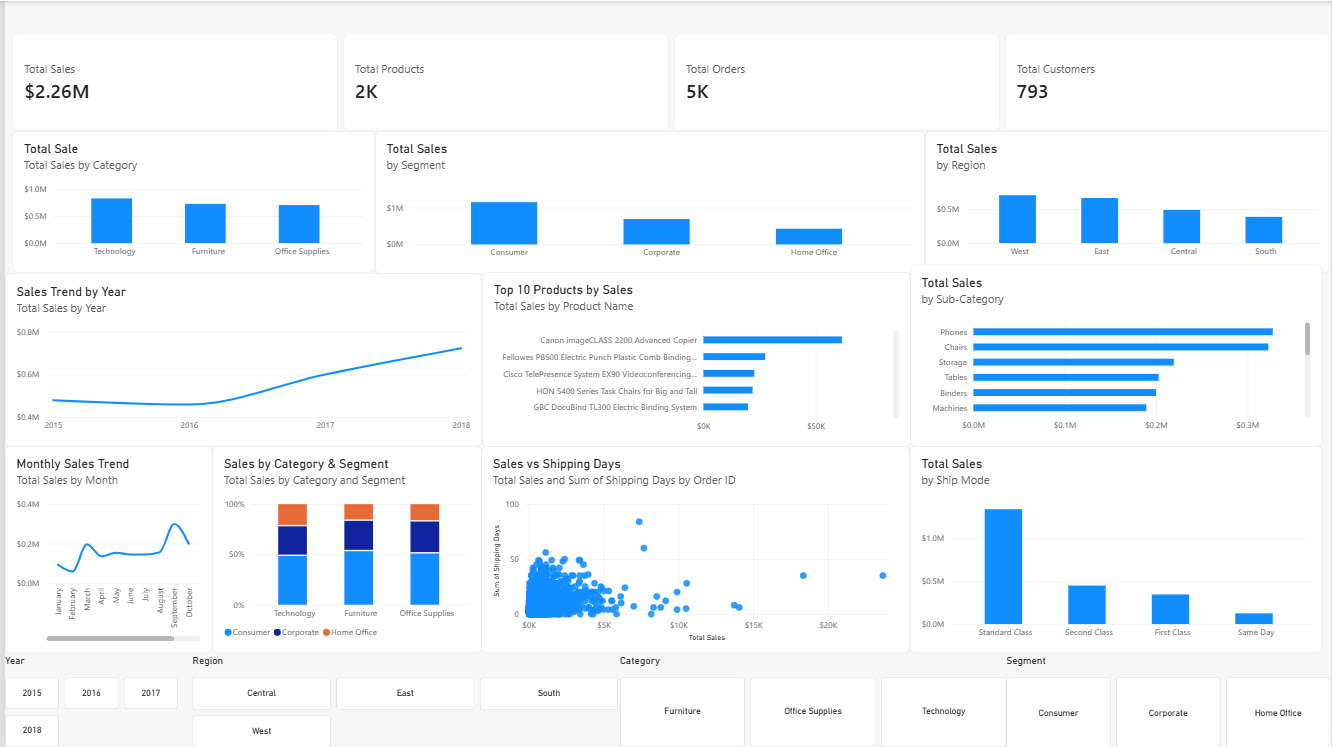

The page's visual inventory and layout, read from the dashboard file:
{"tool":"powerbi","page":{"name":"Page 1","canvas":[1920,1080],"ordinal":0},"visuals":[{"type":"cardVisual","fields":{"Data":["train.Total Sales","train.Total Products","train.Total Orders","train.Total Customers"]},"box":[10.9,47.1,1909.4,141.6],"z":0},{"type":"lineClusteredColumnComboChart","title":"Total Sale","fields":{"Category":["train.Category"],"Y":["train.Total Sales"]},"box":[10.9,188.2,524.8,204.5],"z":1000},{"type":"lineChart","title":"Sales Trend by Year","fields":{"Category":["train.Order Date.Variation.Date Hierarchy.Year","train.Order Date.Variation.Date Hierarchy.Quarter","train.Order Date.Variation.Date Hierarchy.Month","train.Order Date.Variation.Date Hierarchy.Day"],"Y":["train.Total Sales"]},"box":[0,394.5,690.4,250.4],"z":2000},{"type":"lineClusteredColumnComboChart","fields":{"Category":["train.Region"],"Y":["train.Total Sales"]},"box":[1331.9,188.2,588.1,204.5],"z":3000},{"type":"lineClusteredColumnComboChart","fields":{"Category":["train.Segment"],"Y":["train.Total Sales"]},"box":[535.7,188.2,796.3,206.3],"z":4000},{"type":"clusteredBarChart","title":"Top 10 Products by Sales","fields":{"Category":["train.Product Name"],"Y":["train.Total Sales"]},"box":[690.4,392,619.6,252.9],"z":5000},{"type":"clusteredBarChart","fields":{"Category":["train.Sub-Category"],"Y":["train.Total Sales"]},"box":[1310,381.9,596.8,263],"z":6000},{"type":"hundredPercentStackedColumnChart","title":"Sales by Category & Segment","fields":{"Category":["train.Category"],"Series":["train.Segment"],"Y":["train.Total Sales"]},"box":[300,645,390,300],"z":7000},{"type":"scatterChart","title":"Sales vs Shipping Days","fields":{"Category":["train.Order ID"],"X":["train.Total Sales"],"Y":["Sum(train.Shipping Days)"]},"box":[690,645,620,300],"z":8000},{"type":"lineClusteredColumnComboChart","fields":{"Category":["train.Ship Mode"],"Y":["train.Total Sales"]},"box":[1310,645,597,300],"z":9000},{"type":"lineChart","title":"Monthly Sales Trend","fields":{"Category":["train.Order Date.Variation.Date Hierarchy.Month"],"Y":["train.Total Sales"]},"box":[0,645,300,300],"z":10000},{"type":"advancedSlicerVisual","fields":{"Values":["train.Order Date.Variation.Date Hierarchy.Year"]},"box":[0,946.1,250.1,133.1],"z":11000},{"type":"advancedSlicerVisual","fields":{"Values":["train.Region"]},"box":[272.3,946.1,617.3,135.2],"z":12000},{"type":"advancedSlicerVisual","fields":{"Values":["train.Category"]},"box":[889.6,946.1,560.8,133.1],"z":13000},{"type":"advancedSlicerVisual","fields":{"Values":["train.Segment"]},"box":[1450.4,946.1,470,135.2],"z":14000}]}

Visuals, with their boxes in screenshot pixels (x1, y1, x2, y2), scaled from the page's 1920x1080 canvas onto the 1332x747 screenshot:
cardVisual - train.Total Sales x train.Total Products: crop(8, 33, 1331, 131)
"Total Sale" lineClusteredColumnComboChart: crop(8, 130, 372, 272)
"Sales Trend by Year" lineChart: crop(0, 273, 479, 446)
lineClusteredColumnComboChart - train.Region x train.Total Sales: crop(924, 130, 1331, 272)
lineClusteredColumnComboChart - train.Segment x train.Total Sales: crop(372, 130, 924, 273)
"Top 10 Products by Sales" clusteredBarChart: crop(479, 271, 909, 446)
clusteredBarChart - train.Sub-Category x train.Total Sales: crop(909, 264, 1323, 446)
"Sales by Category & Segment" hundredPercentStackedColumnChart: crop(208, 446, 479, 654)
"Sales vs Shipping Days" scatterChart: crop(479, 446, 909, 654)
lineClusteredColumnComboChart - train.Ship Mode x train.Total Sales: crop(909, 446, 1323, 654)
"Monthly Sales Trend" lineChart: crop(0, 446, 208, 654)
advancedSlicerVisual - train.Order Date.Variation.Date Hierarchy.Year: crop(0, 654, 174, 746)
advancedSlicerVisual - train.Region: crop(189, 654, 617, 746)
advancedSlicerVisual - train.Category: crop(617, 654, 1006, 746)
advancedSlicerVisual - train.Segment: crop(1006, 654, 1331, 746)
